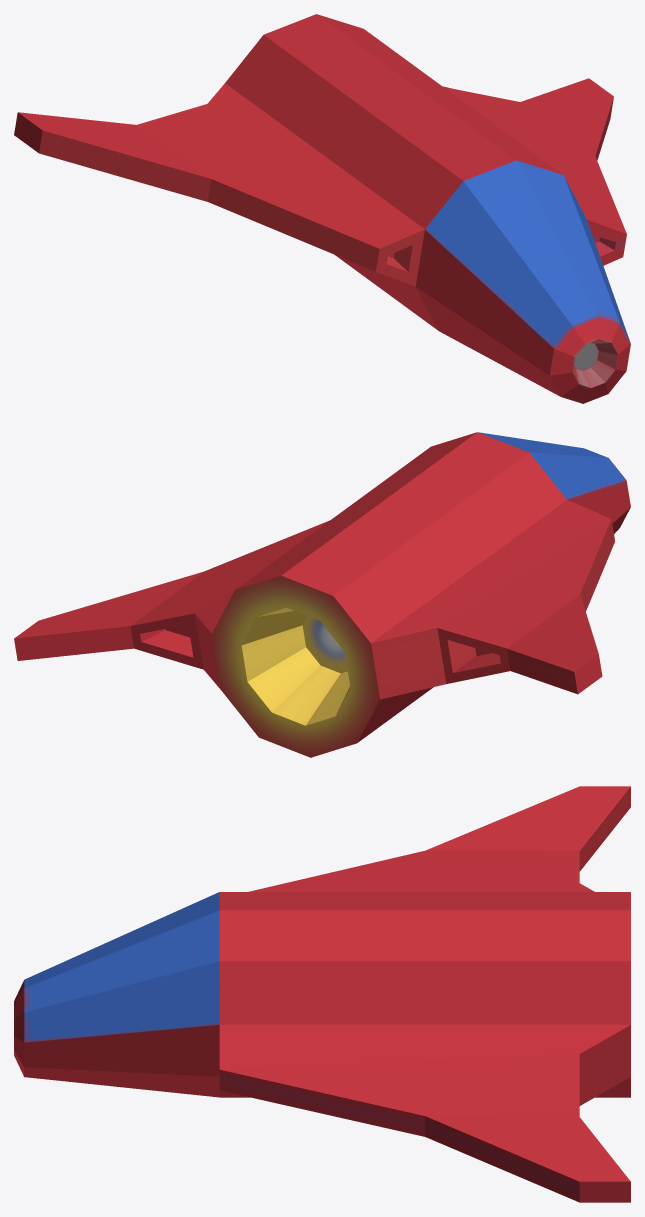
File: SpaceCraft.gltf
The picture shows the model from 3 angles, top to bottom: view 1: azimuth 30°, elevation 25°; view 2: azimuth 150°, elevation 25°; view 3: azimuth 270°, elevation 25°; orthographic projection. The views are drawn at different scales.
Visible parts, largest first — view 1: Cylinder; view 2: Cylinder; view 3: Cylinder.
Part boxes in pixels (box(x1,y1,x2,y2)): Cylinder: box(14, 14, 630, 403); Cylinder: box(14, 432, 630, 757); Cylinder: box(14, 786, 630, 1202).
Bounding box in the file's own units: 3.32 × 0.9848 × 3.
Materials: 1 (1 with a texture image).
